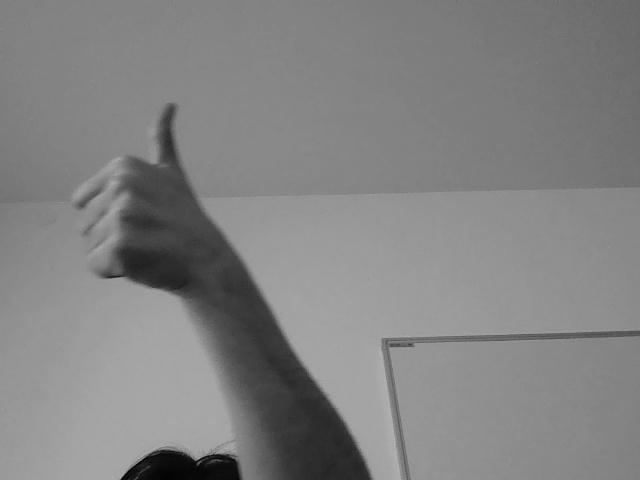friend: (62, 95, 214, 299)
